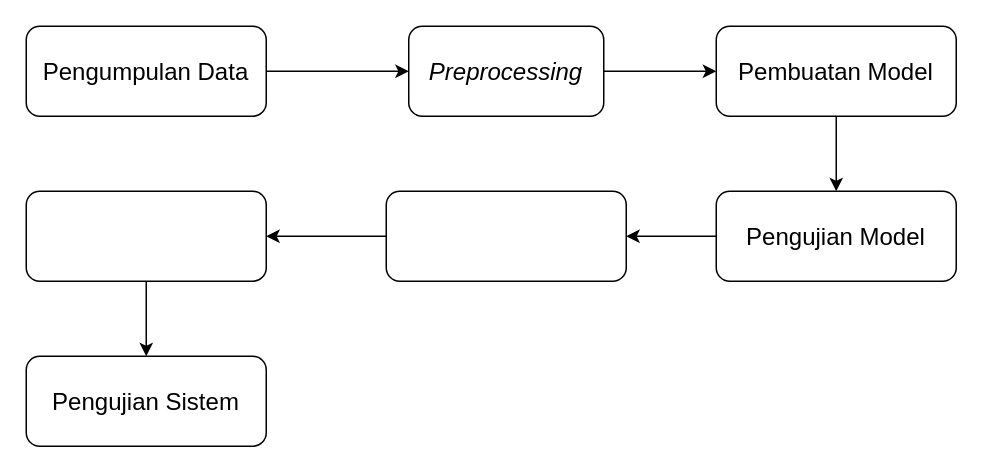
Some shapes in this 983 by 473 pixel diagram are drawn without their labels. Here are the shapes that lost their labels. From the top down, the centre of each, then its label:
the point at 145,235: Pembuatan Sistem
the point at 505,235: Perancangan Sistem
